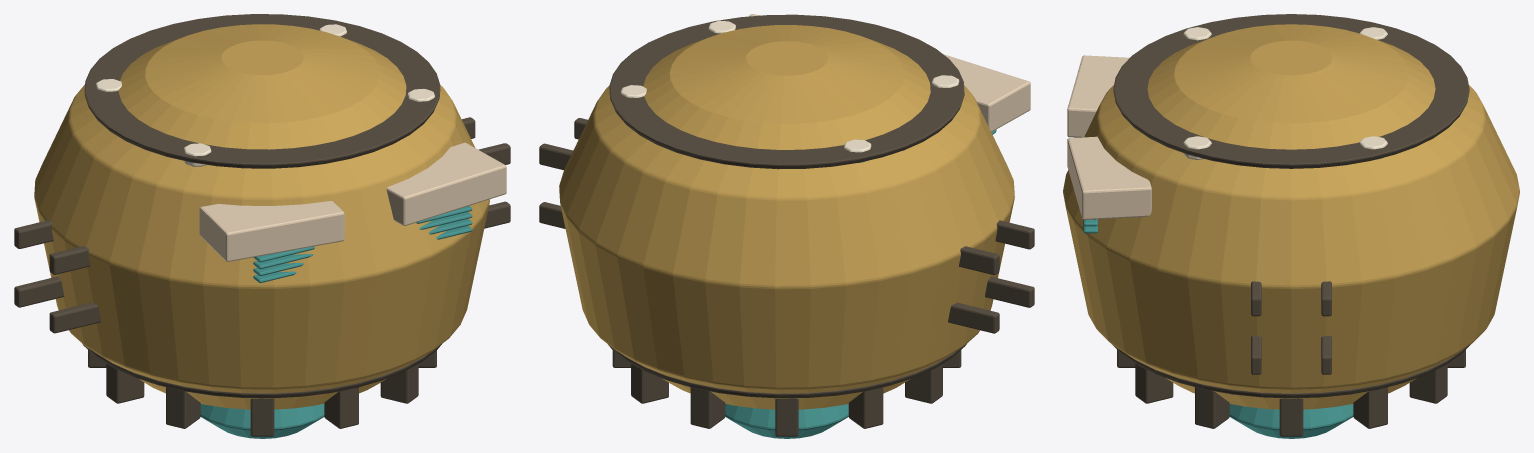
Rendered from bujji-field-scout-v1.glb.
The picture shows the model from 3 angles, left to right: view 1: azimuth 30°, elevation 25°; view 2: azimuth 150°, elevation 25°; view 3: azimuth 270°, elevation 25°; orthographic projection.
Parts seen in each view (by area): view 1: Original_Bujji_Field_Scout_v1; view 2: Original_Bujji_Field_Scout_v1; view 3: Original_Bujji_Field_Scout_v1.
Part boxes in pixels (x1,y1,x2,y2): Original_Bujji_Field_Scout_v1: (14, 14, 510, 438); Original_Bujji_Field_Scout_v1: (539, 14, 1034, 438); Original_Bujji_Field_Scout_v1: (1063, 14, 1519, 438).
Size of the model in its own units: 0.9 by 0.68 by 0.7788.
